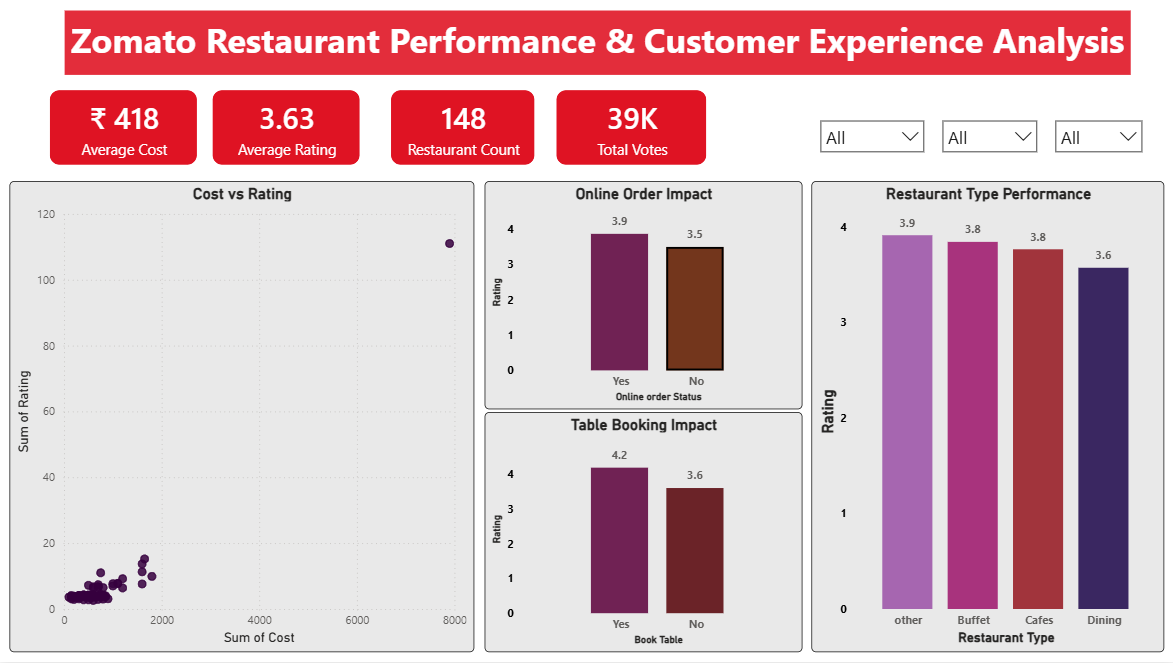

This screenshot's page, from the dashboard's own definition file:
{"tool":"powerbi","page":{"name":"Page 1","canvas":[1280,720],"ordinal":0},"visuals":[{"type":"textbox","box":[71.4,11.4,1160,70],"z":0},{"type":"cardVisual","fields":{"Data":["Zomato.Average Cost"]},"box":[38.6,81.4,194.3,115.7],"z":1000},{"type":"cardVisual","fields":{"Data":["Zomato.Total Votes"]},"box":[590,81.4,197.1,115.7],"z":2000},{"type":"cardVisual","fields":{"Data":["Zomato.Average Rating"]},"box":[215.7,81.4,194.3,115.7],"z":3000},{"type":"cardVisual","fields":{"Data":["Zomato.Restaurant Count"]},"box":[410,81.4,190,115.7],"z":4000},{"type":"columnChart","title":"Online Order Impact","fields":{"Category":["Zomato.Online Order Status"],"Y":["Zomato.Average Rating"]},"box":[528.6,197.1,345.7,248.6],"z":5000},{"type":"columnChart","title":"Table Booking Impact","fields":{"Y":["Zomato.Average Rating"],"Category":["Zomato.Book Table Status"]},"box":[528.6,448.6,345.7,261.4],"z":6000},{"type":"columnChart","title":"Restaurant Type Performance","fields":{"Y":["Zomato.Average Rating"],"Category":["Zomato.Restaurant Type"]},"box":[884.3,197.1,384.3,512.9],"z":7000},{"type":"scatterChart","title":"Cost vs Rating","fields":{"X":["Sum(Zomato.Cost)"],"Category":["Zomato.Votes"],"Y":["Sum(Zomato.Rating)"]},"box":[11.4,197.1,505.7,512.9],"z":8000},{"type":"slicer","fields":{"Values":["Zomato.Restaurant Type"]},"box":[884.3,121.4,132.9,57.1],"z":9000},{"type":"slicer","fields":{"Values":["Zomato.Book Table Status"]},"box":[1017.1,121.4,122.9,57.1],"z":10000},{"type":"slicer","fields":{"Values":["Zomato.Online Order Status"]},"box":[1140,121.4,114.3,47.1],"z":11000}]}

Visuals, with their boxes in screenshot pixels (x1, y1, x2, y2), scaled from the page's 1280x720 canvas onto the 1173x663 screenshot:
textbox: 65/10/1128/75
cardVisual - Zomato.Average Cost: 35/75/213/181
cardVisual - Zomato.Total Votes: 541/75/721/181
cardVisual - Zomato.Average Rating: 198/75/376/181
cardVisual - Zomato.Restaurant Count: 376/75/550/181
"Online Order Impact" columnChart: 484/181/801/410
"Table Booking Impact" columnChart: 484/413/801/654
"Restaurant Type Performance" columnChart: 810/181/1163/654
"Cost vs Rating" scatterChart: 10/181/474/654
slicer - Zomato.Restaurant Type: 810/112/932/164
slicer - Zomato.Book Table Status: 932/112/1045/164
slicer - Zomato.Online Order Status: 1045/112/1149/155
